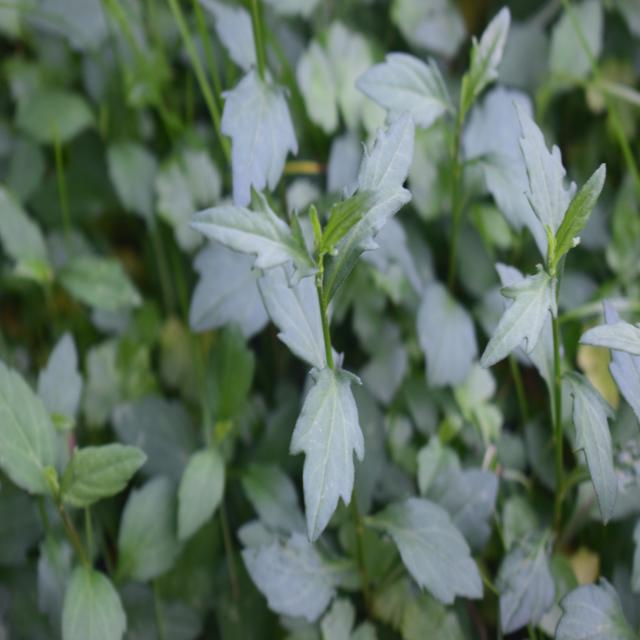Indian aster: (215, 126, 480, 594), (476, 118, 628, 531)
